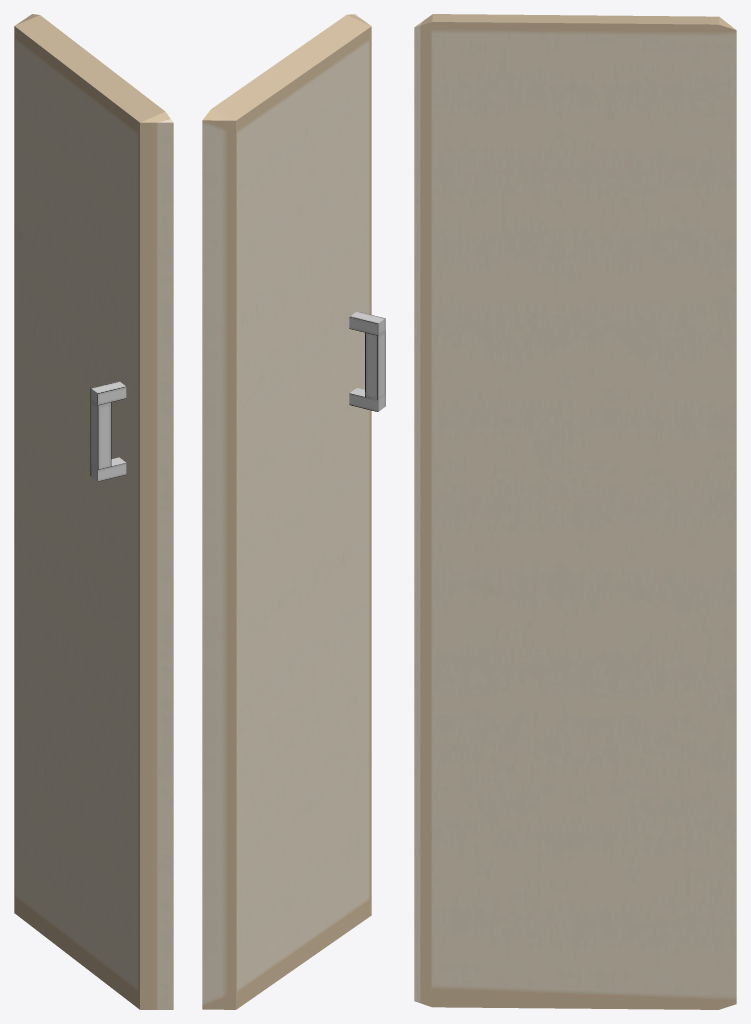
Rendered from Wardrobe_Door_Left.fbx.
3 renders of one model, left to right at view 1: azimuth 30°, elevation 25°; view 2: azimuth 150°, elevation 25°; view 3: azimuth 270°, elevation 25°, orthographic. The views are drawn at different scales.
Visible parts, largest first — view 1: Wardrobe_Door_Left; view 2: Wardrobe_Door_Left; view 3: Wardrobe_Door_Left.
Part boxes in pixels (x1,y1,x2,y2): Wardrobe_Door_Left: (14, 14, 173, 1009); Wardrobe_Door_Left: (202, 14, 385, 1009); Wardrobe_Door_Left: (414, 14, 736, 1009).
Bounding box in the file's own units: 14.32 × 210 × 62.37.
